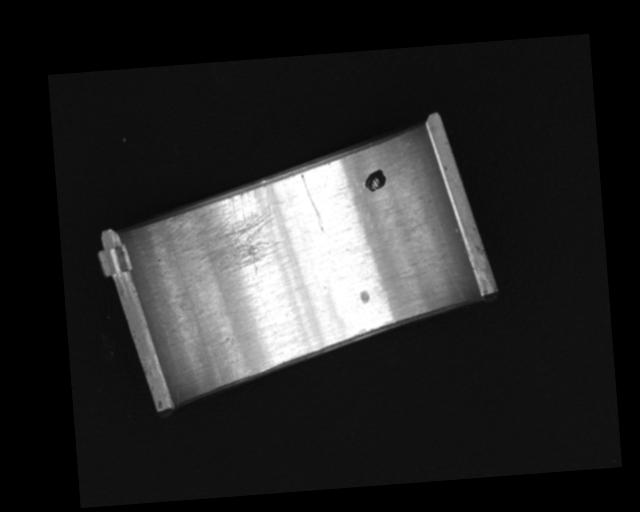blot: (362, 168, 387, 192)
bruise: (359, 288, 370, 304)
nick: (411, 214, 464, 305), (300, 172, 326, 234)
scratch: (164, 182, 280, 280)
